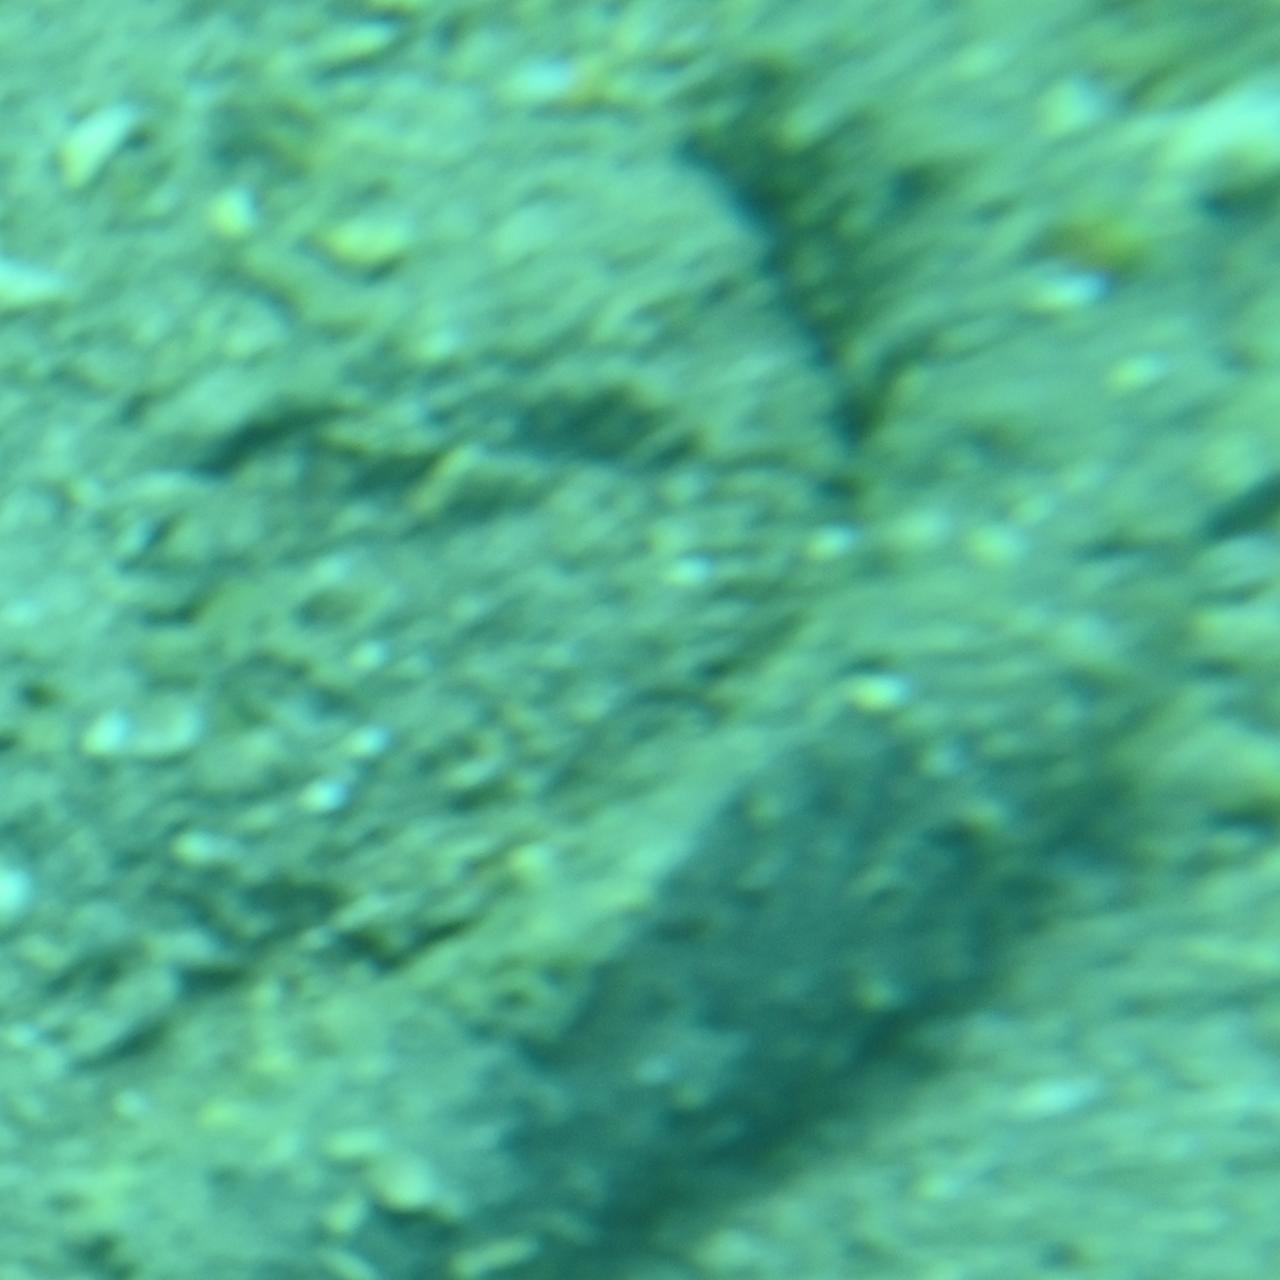Holothuria tubulosa: (45, 0, 1235, 1280)
